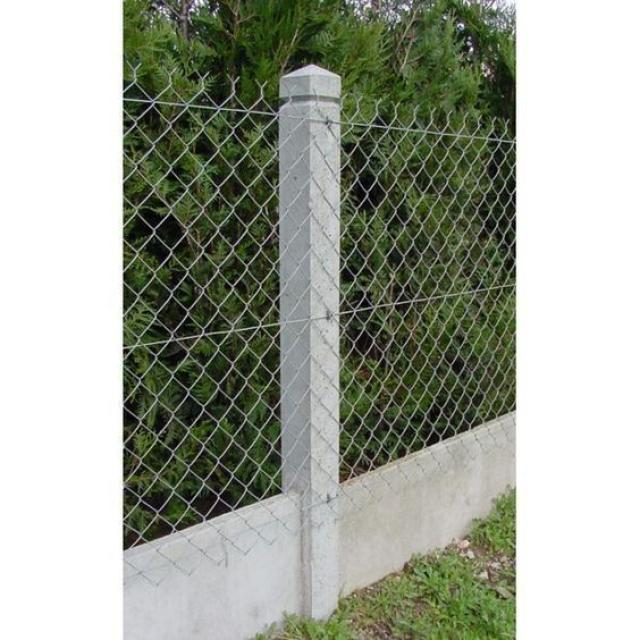fence: (123, 58, 522, 576)
